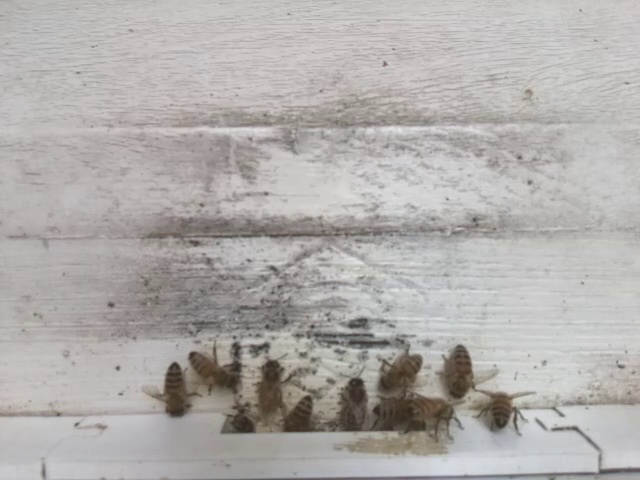bee: (141, 350, 208, 421), (432, 337, 489, 406), (472, 380, 538, 434), (403, 394, 468, 444), (365, 344, 429, 394), (184, 345, 242, 397), (251, 346, 290, 421), (335, 370, 373, 435), (284, 391, 317, 436), (225, 400, 259, 439), (373, 394, 401, 426)
